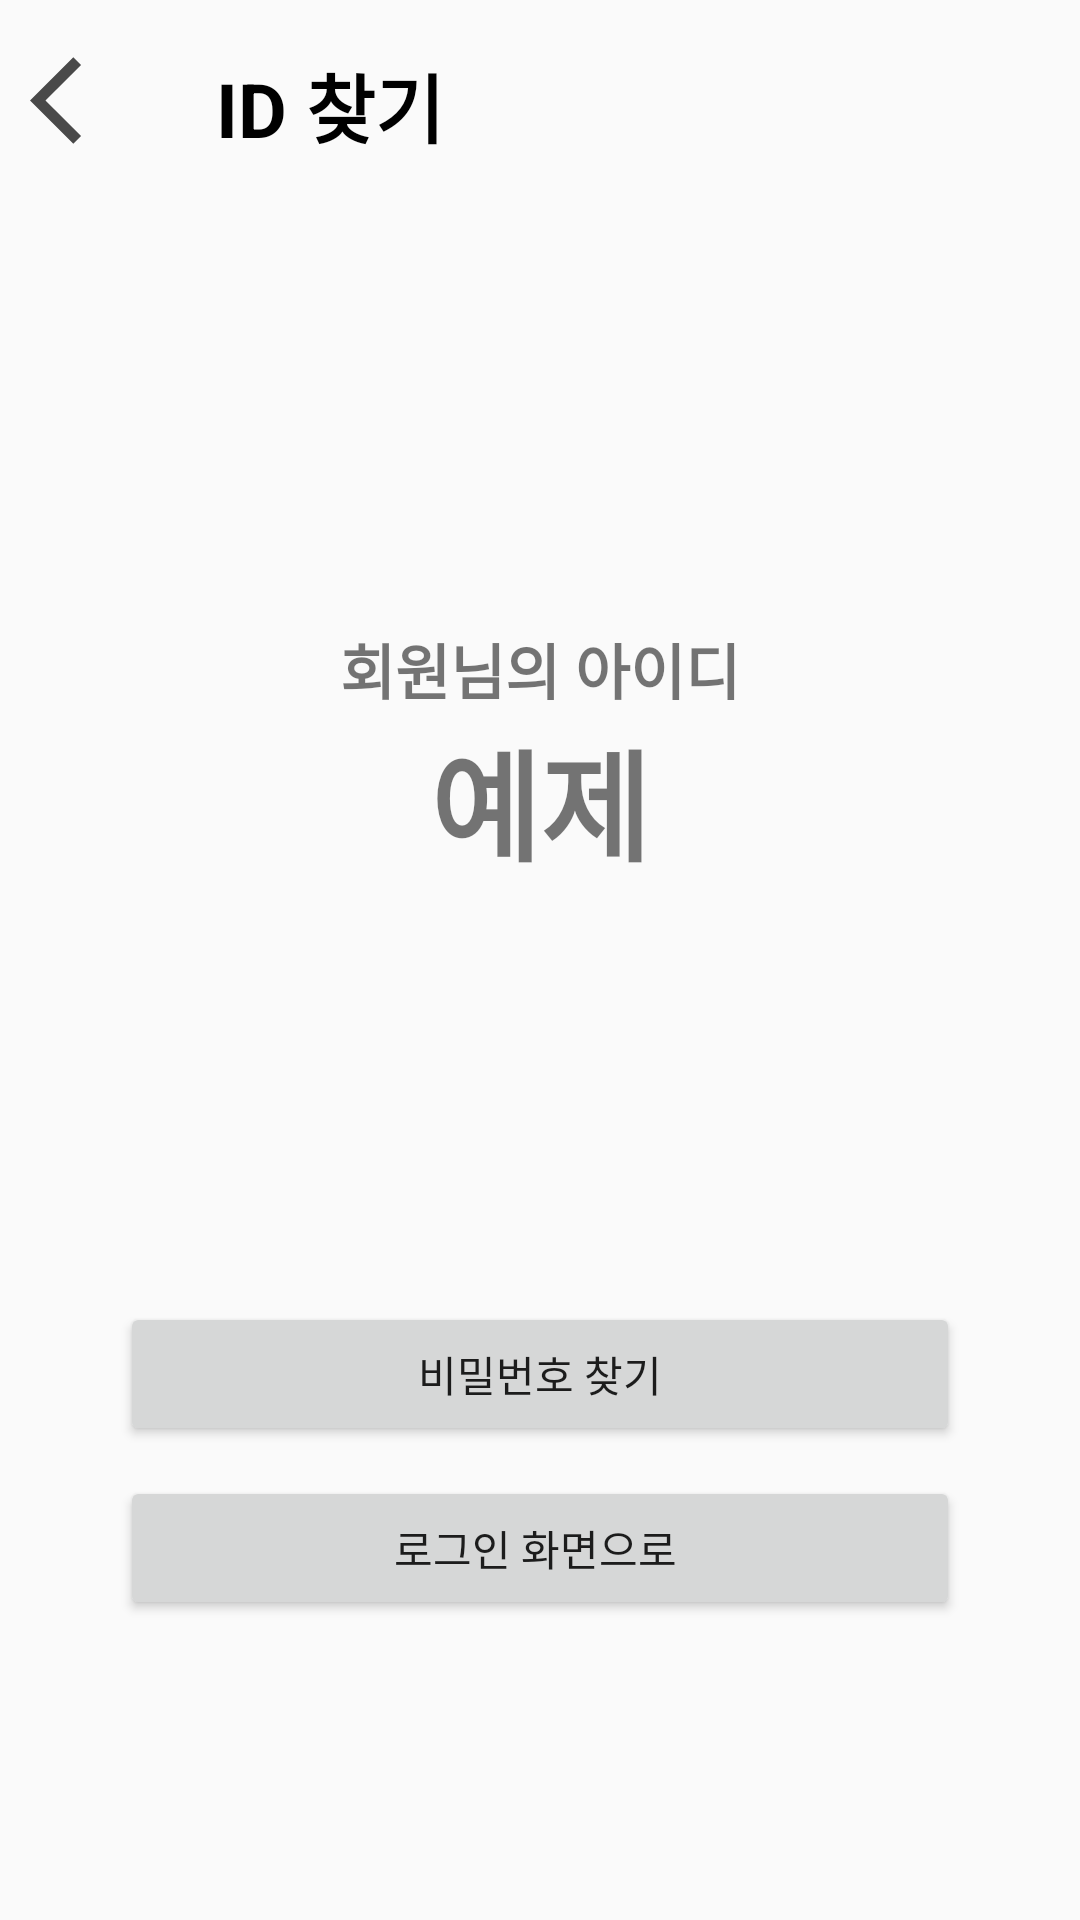

Named icons in this screenshot (1080×1920) and their centers, (x=x, y=y):
arrow back: (x=55, y=100)
